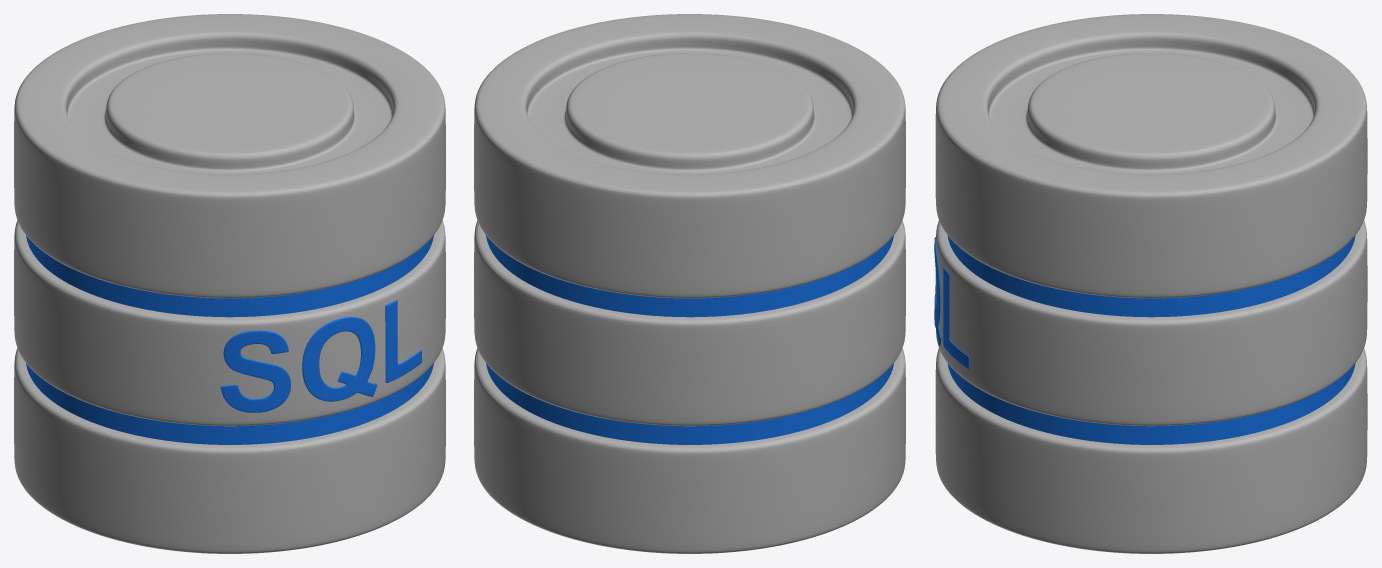
Rendered from sql.glb.
The picture shows the model from 3 angles, left to right: view 1: azimuth 30°, elevation 25°; view 2: azimuth 150°, elevation 25°; view 3: azimuth 270°, elevation 25°; orthographic projection.
Parts seen in each view (by area): view 1: Cylinder.016, Cylinder.017, Text; view 2: Cylinder.016, Cylinder.017; view 3: Cylinder.016, Cylinder.017, Text.
Boxes of the visible parts, left/top/right/bottom form: Cylinder.016: left=14, top=14, right=445, bottom=553; Cylinder.017: left=26, top=235, right=433, bottom=444; Text: left=220, top=300, right=421, bottom=412; Cylinder.016: left=474, top=14, right=905, bottom=553; Cylinder.017: left=486, top=235, right=893, bottom=444; Cylinder.016: left=935, top=14, right=1367, bottom=553; Cylinder.017: left=947, top=235, right=1355, bottom=444; Text: left=934, top=237, right=969, bottom=369.
Bounding box in the file's own units: 3.25 × 3.01 × 3.26.
